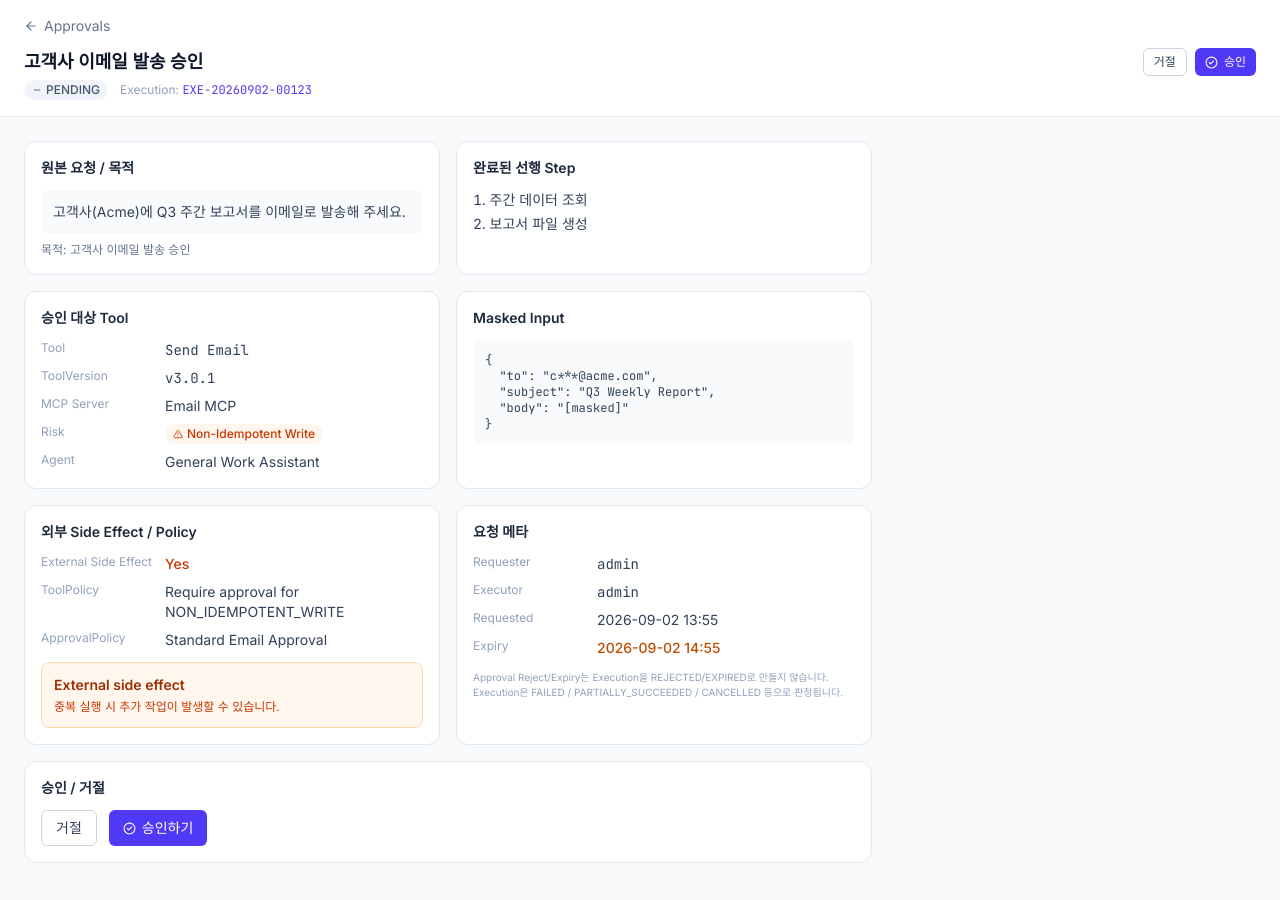
it: ApprovalDetail contract regression › disables reject confirm when comment is required and empty, then shows REJECTED (not APPROVED)
This screenshot has width=1280, height=900.
Click the 1st button "거절": coordinates (1165, 62) [1143,48,1187,76]
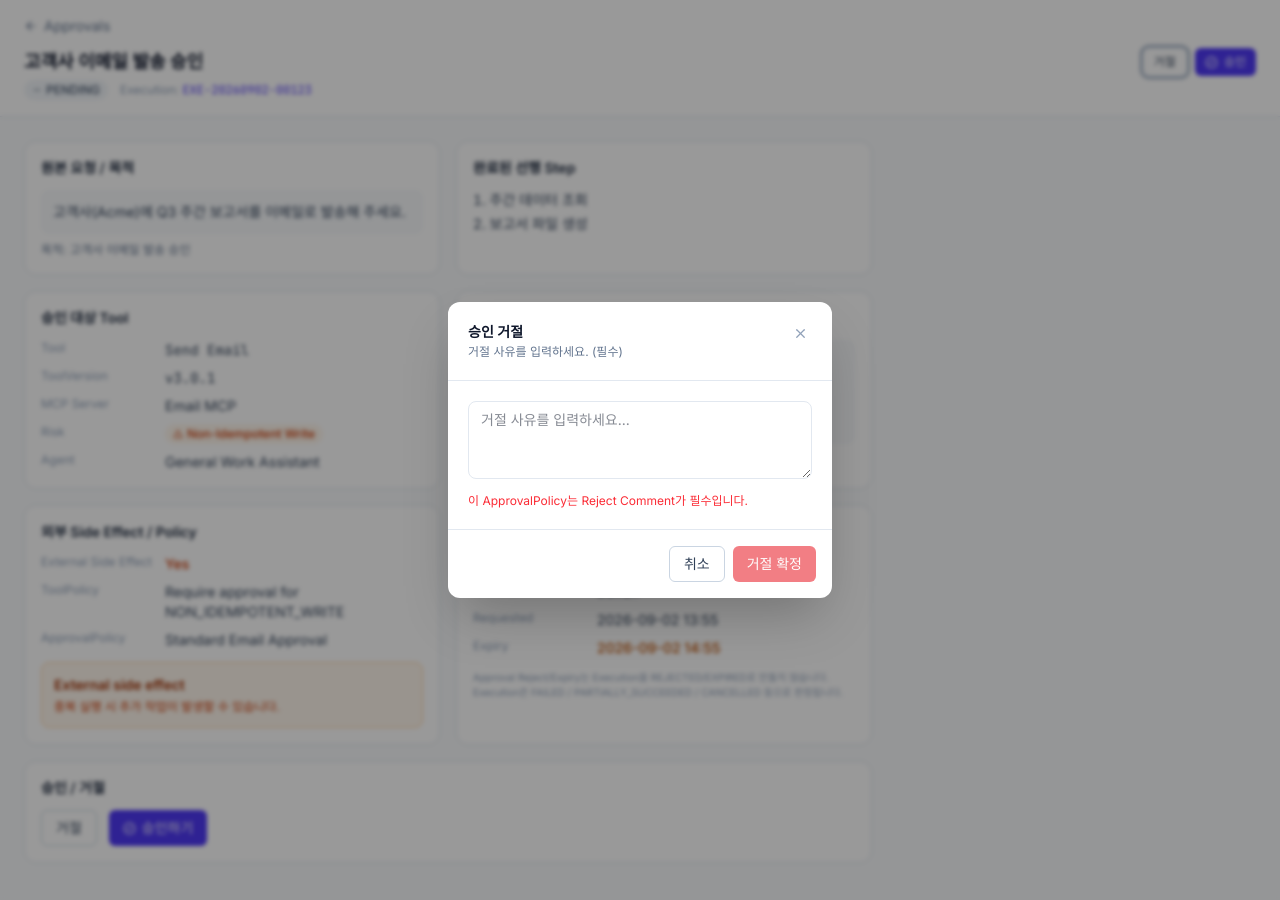
expect the heading "승인 거절" is shown: met, box [468,323,523,340]
expect the button "거절 확정" is disabled: met, box [733,546,816,582]
In the text box with placeholder "거절 사유를 입력하세요...": coordinates (640, 440) [468,401,812,479], type "정책상 거절"
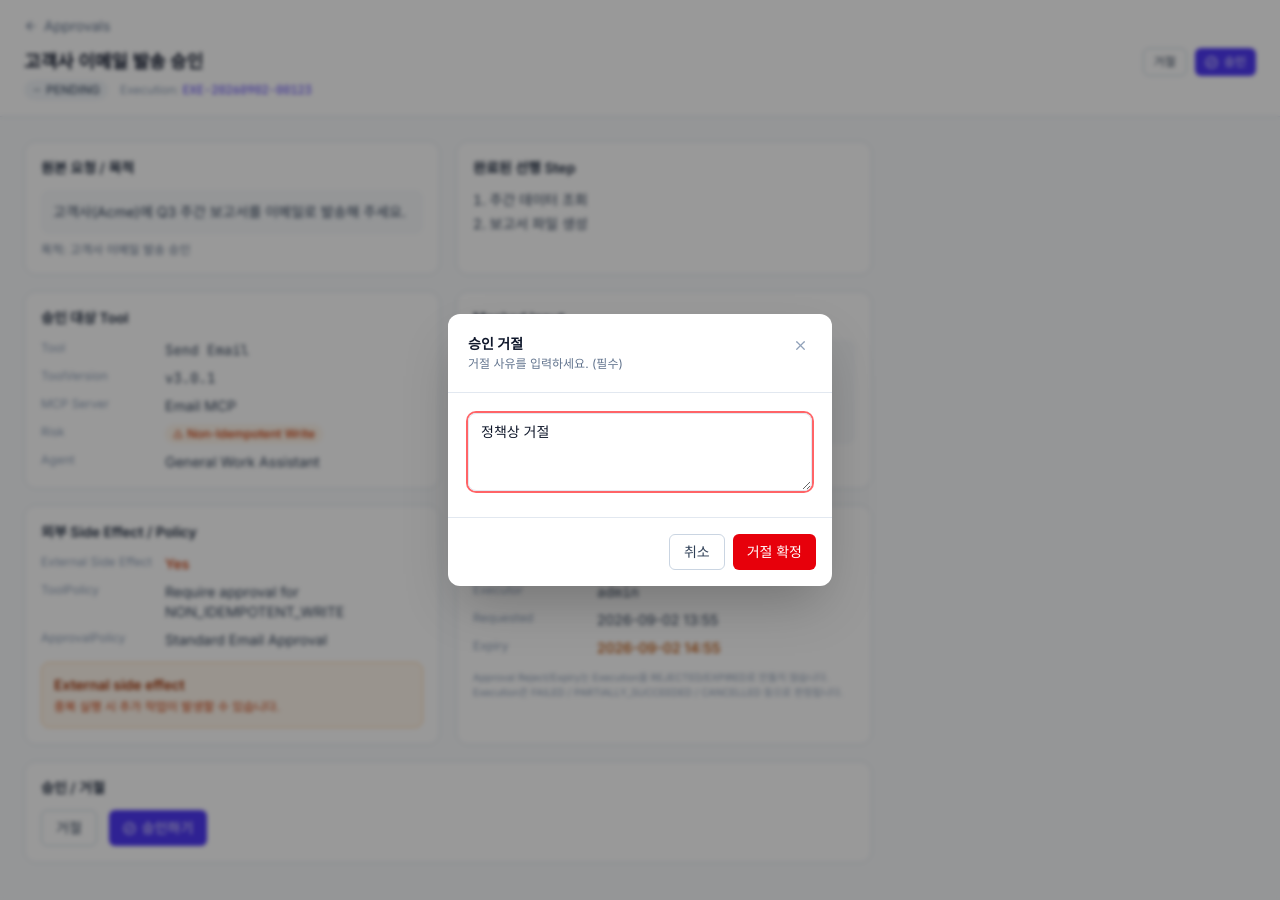
expect the button "거절 확정" is enabled: met
Click the button "거절 확정": coordinates (774, 552) [733,534,816,570]
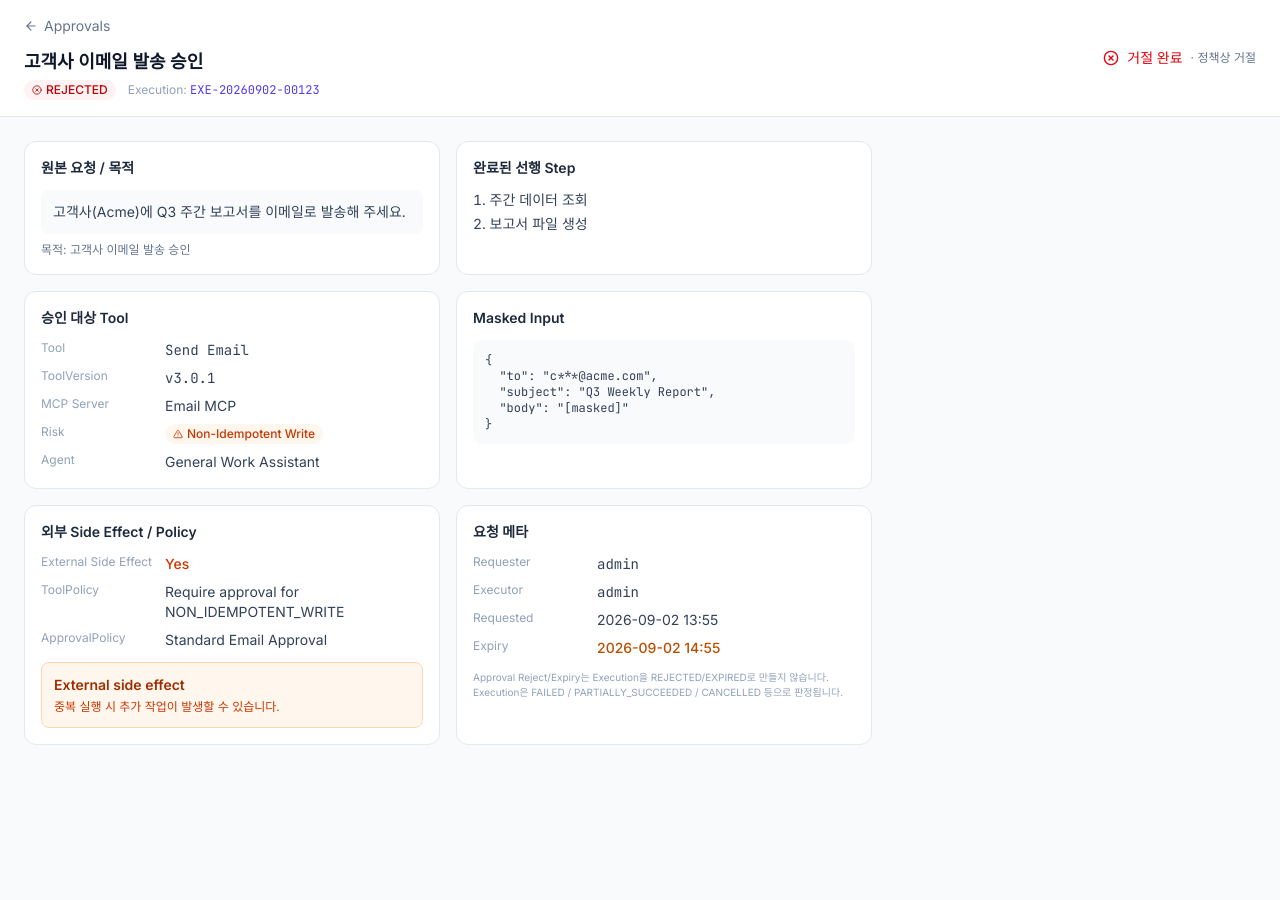
expect the text "거절 완료 · 정책상 거절" is shown: met, box [1103,48,1256,68]
expect the text "REJECTED" is shown: met, box [24,80,116,100]
